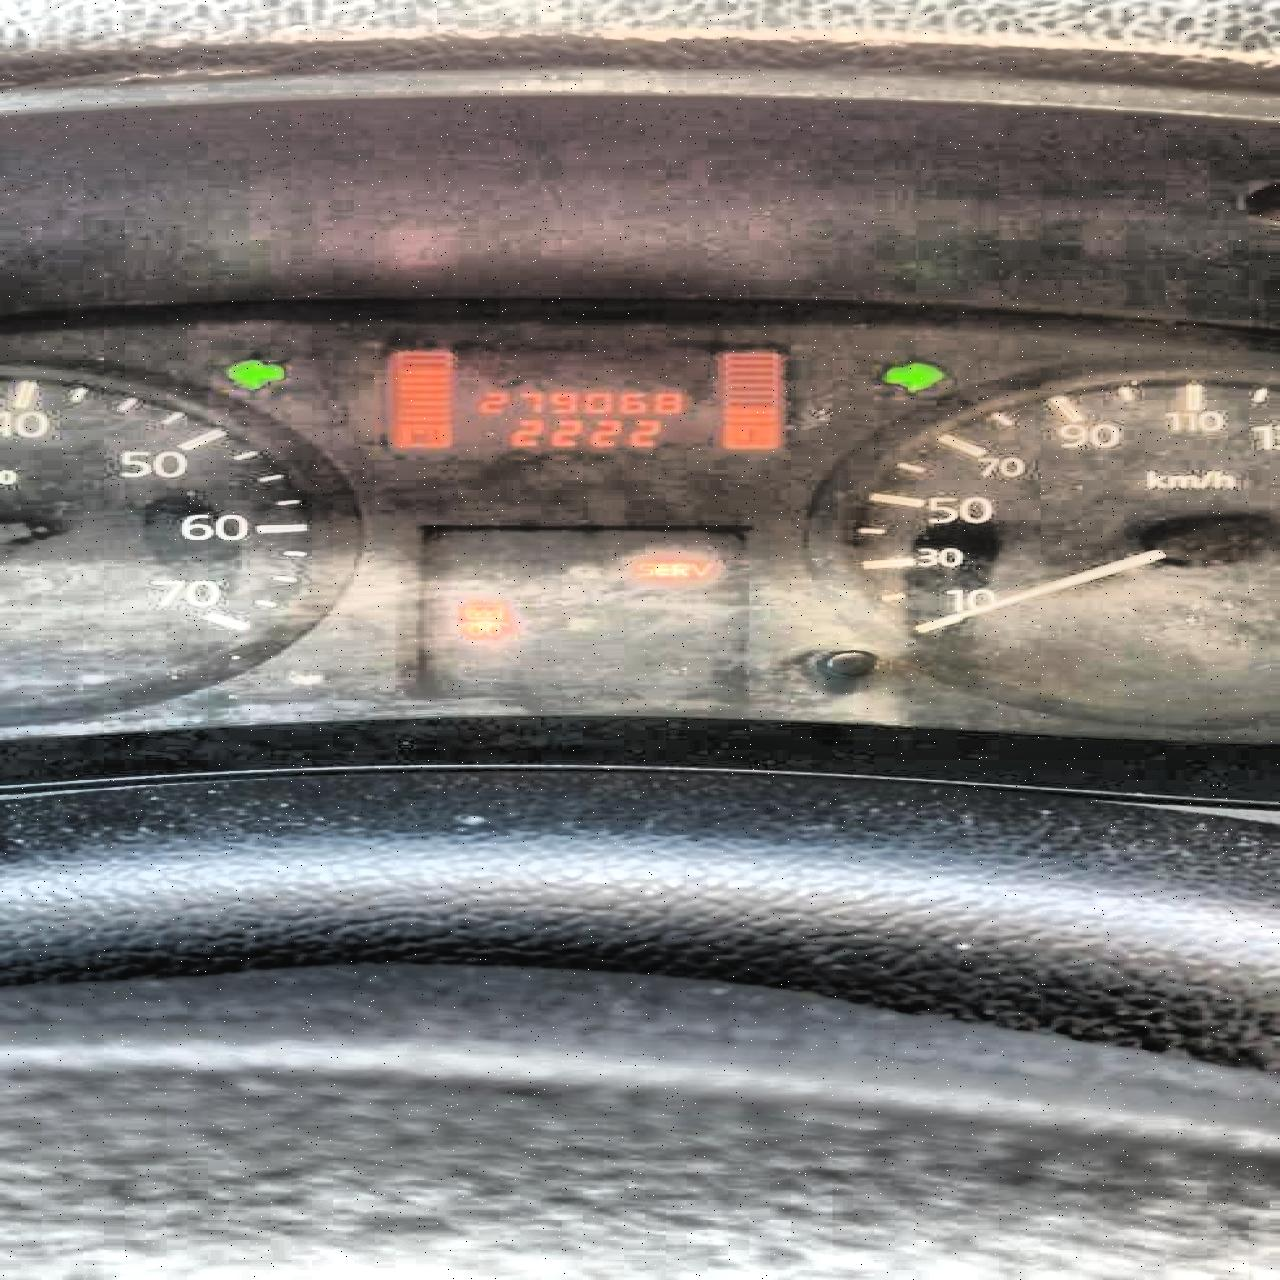0: (583, 392, 611, 413)
2: (588, 418, 622, 447), (508, 418, 542, 447), (549, 418, 580, 447), (627, 418, 658, 447), (476, 392, 508, 413)
6: (617, 393, 645, 413)
7: (515, 392, 542, 413)
8: (651, 392, 681, 413)
9: (546, 392, 574, 413)
odometer: (374, 341, 794, 451)
